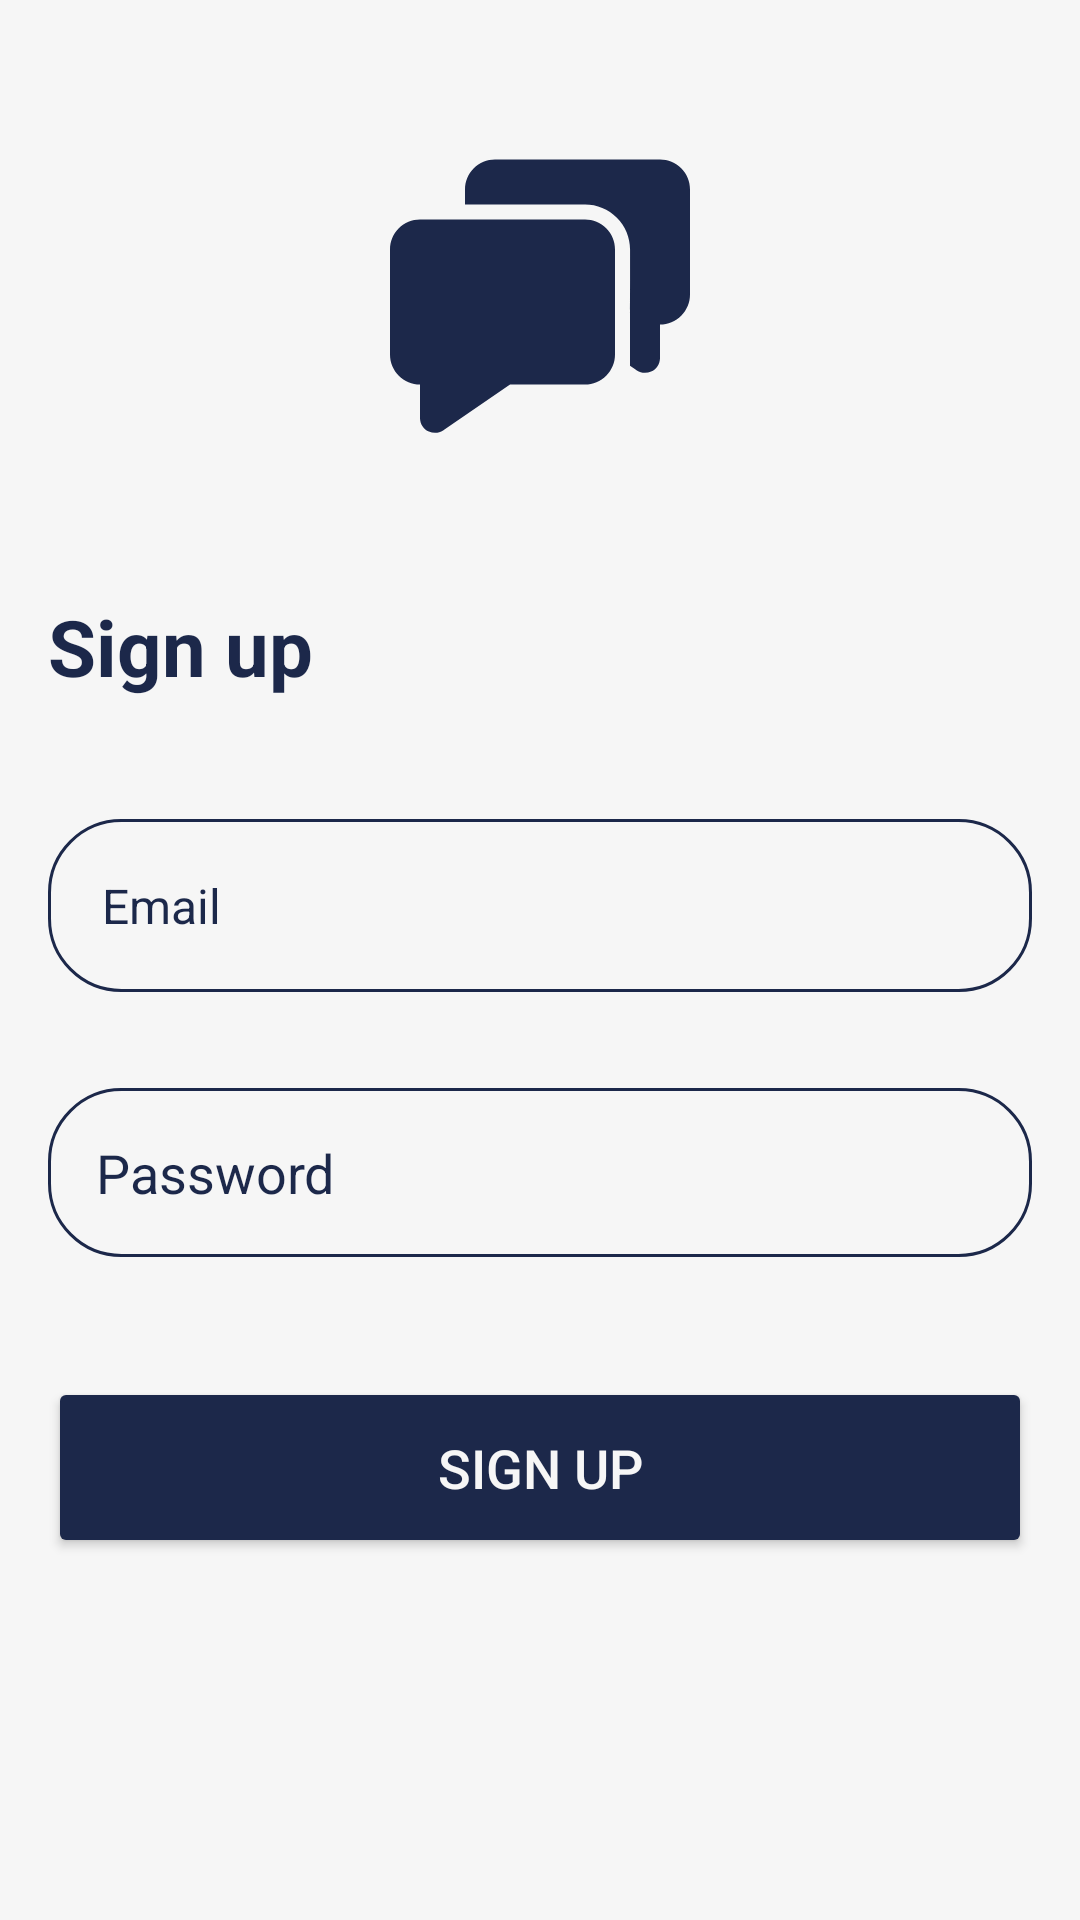

Icon click points for this 1080 × 1920 phone screenshot, format point (x, y):
message: point (540, 296)
